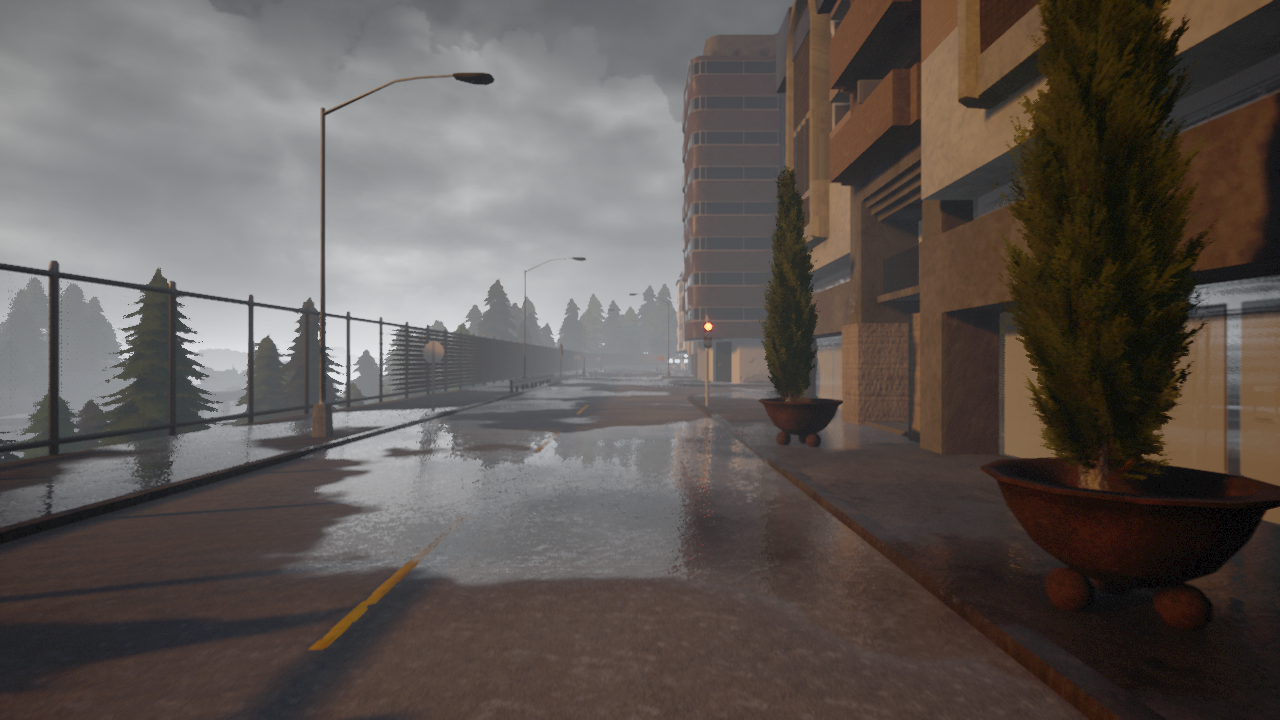red: (703, 321, 713, 350)
